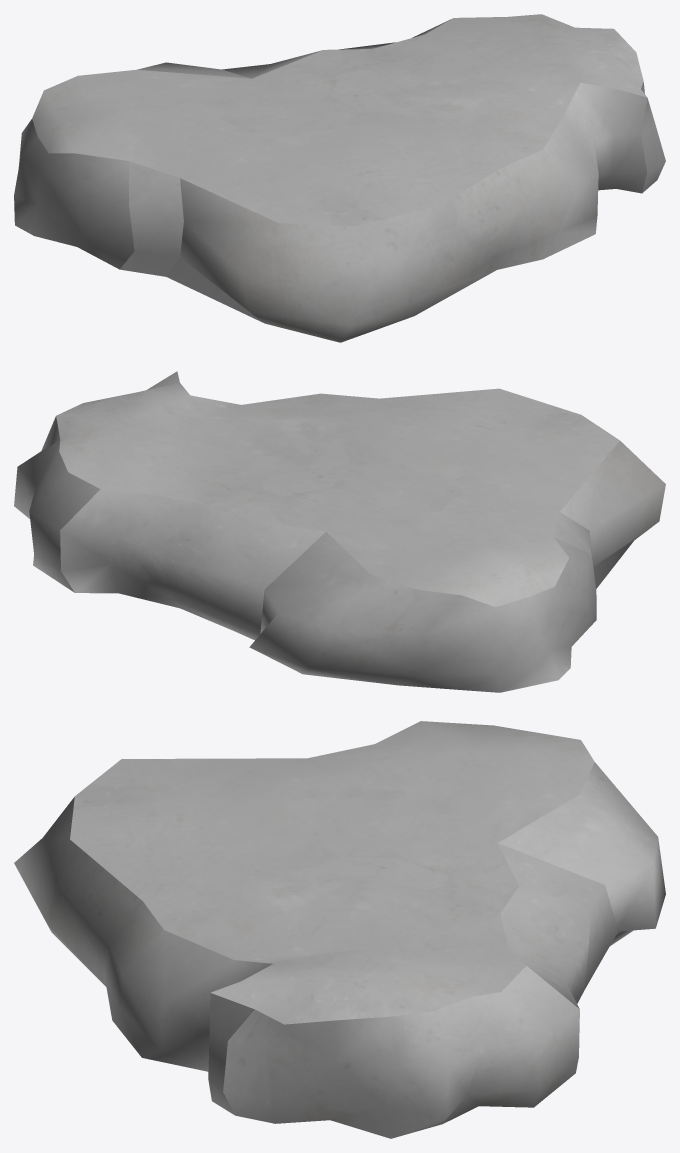
The model's file is SM_Ground_Debris_M6.fbx.
3 renders of one model, top to bottom at view 1: azimuth 30°, elevation 25°; view 2: azimuth 150°, elevation 25°; view 3: azimuth 270°, elevation 25°, orthographic. The views are drawn at different scales.
Visible parts, largest first — view 1: SM_Ground_Debris_M6_LOD0; view 2: SM_Ground_Debris_M6_LOD0; view 3: SM_Ground_Debris_M6_LOD0.
Part boxes in pixels (x1=…): SM_Ground_Debris_M6_LOD0: x1=14, y1=14, x2=665, y2=342; SM_Ground_Debris_M6_LOD0: x1=14, y1=371, x2=665, y2=692; SM_Ground_Debris_M6_LOD0: x1=14, y1=721, x2=665, y2=1138.
Size of the model in its own units: 190 by 161 by 33.61.
1 material, 1 textured.
